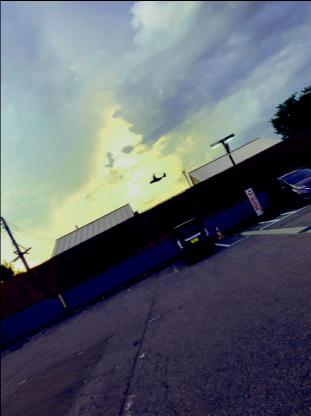Tornado: (148, 170, 165, 182)
